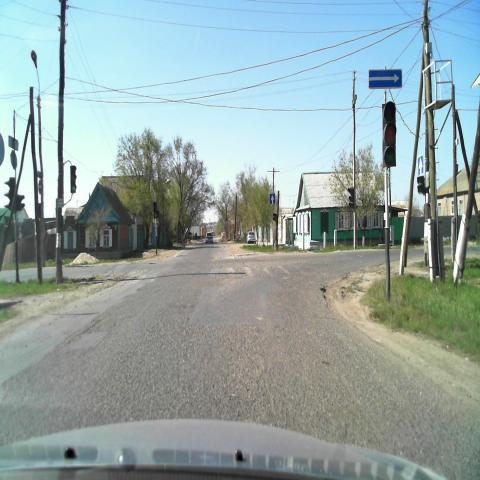5_7_1: (369, 68, 402, 88)
